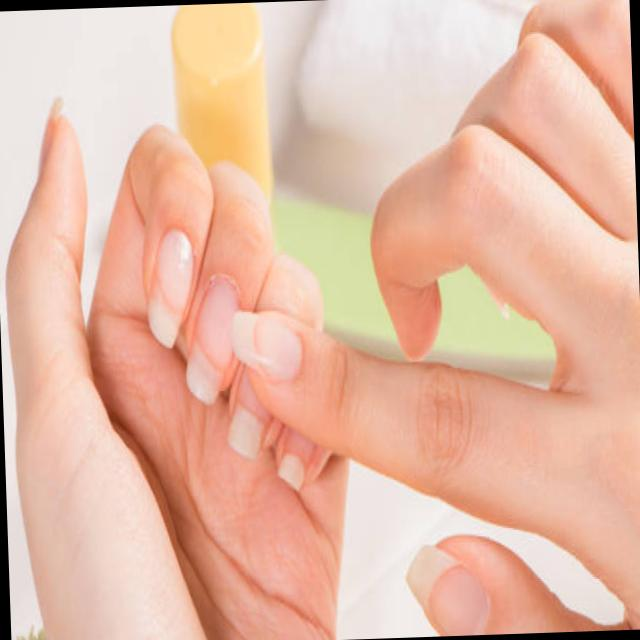Nail: (405, 545, 489, 634), (186, 275, 239, 403), (147, 227, 193, 347), (231, 312, 302, 380), (228, 370, 268, 461), (278, 426, 316, 487)
